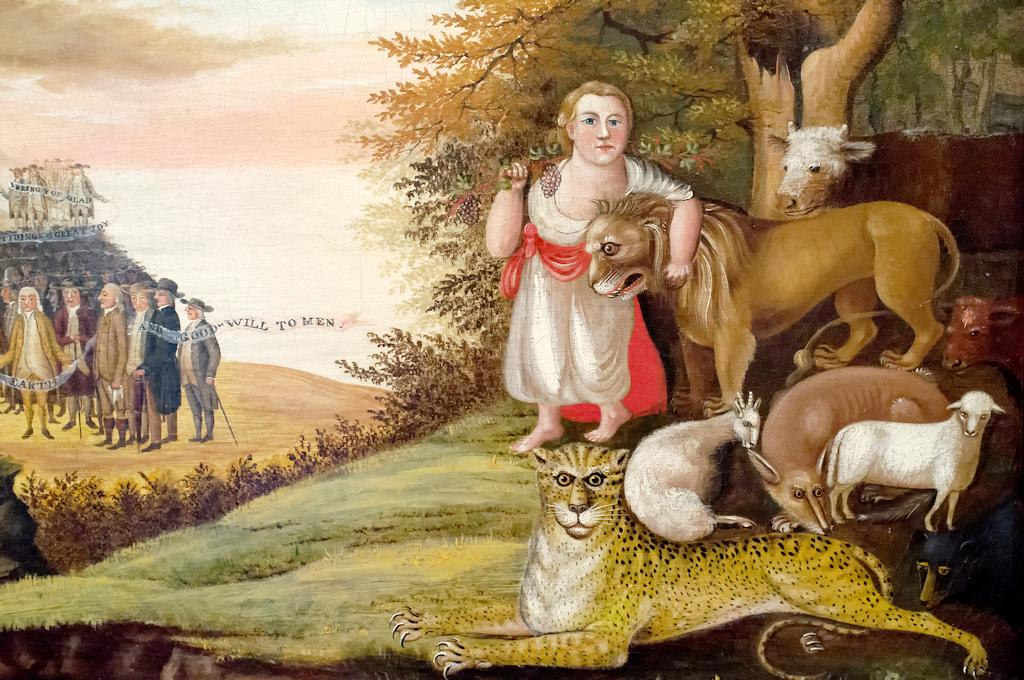Sheep: (828, 392, 1008, 534)
